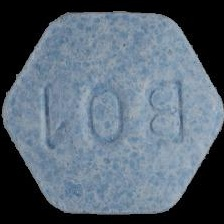68180-518: (0, 0, 224, 224)
